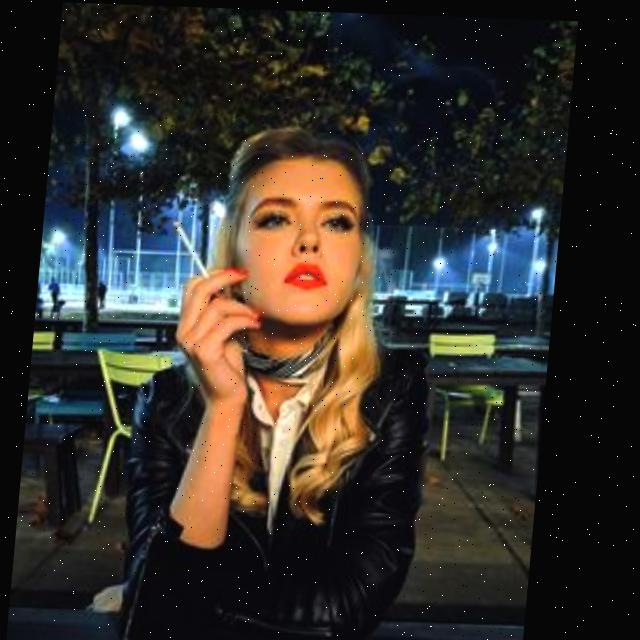cigarette: (171, 218, 219, 279)
